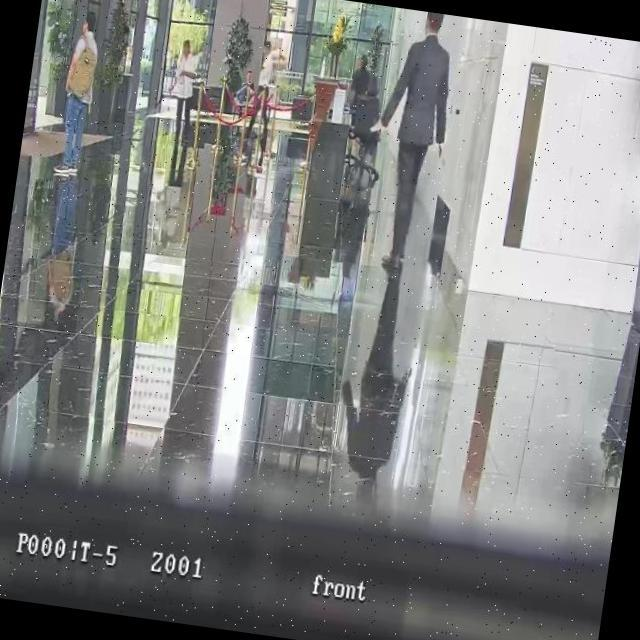person: (356, 7, 464, 279), (54, 12, 104, 172), (160, 39, 207, 187), (165, 39, 206, 144), (242, 40, 281, 145), (342, 52, 374, 148), (235, 68, 258, 104)
